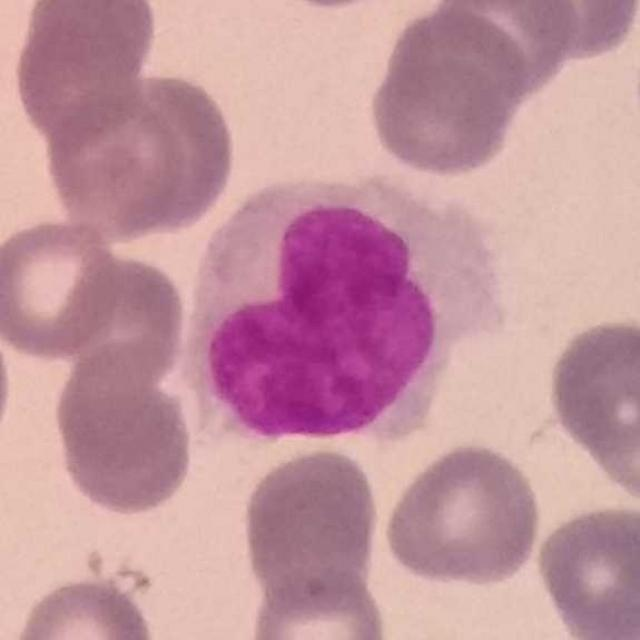mono: (184, 173, 509, 449)
